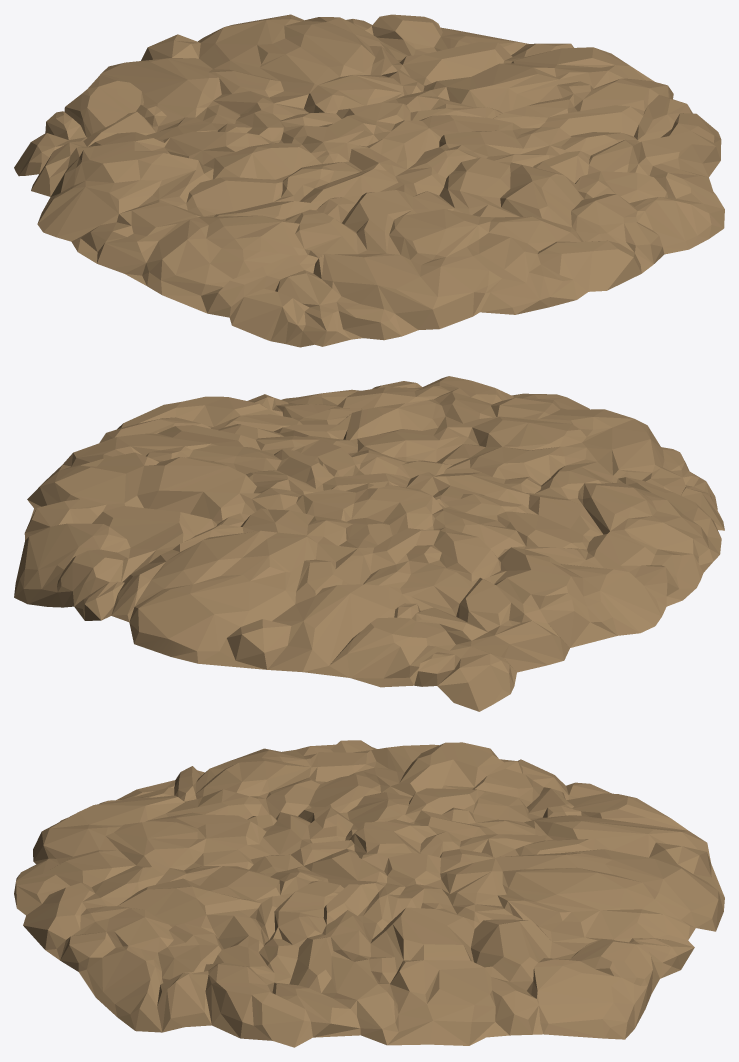
File: nature_SM_Rock_Tile_02.gltf
The picture shows the model from 3 angles, top to bottom: view 1: azimuth 30°, elevation 25°; view 2: azimuth 150°, elevation 25°; view 3: azimuth 270°, elevation 25°; orthographic projection.
Visible parts, largest first — view 1: SM_Rock_Tile_02; view 2: SM_Rock_Tile_02; view 3: SM_Rock_Tile_02.
Boxes of the visible parts, bbox=[...] form: SM_Rock_Tile_02: bbox=[14, 14, 724, 347]; SM_Rock_Tile_02: bbox=[14, 376, 724, 711]; SM_Rock_Tile_02: bbox=[14, 740, 724, 1047].
Size of the model in its own units: 26.81 by 3.33 by 27.13.
1 material, 1 textured.
